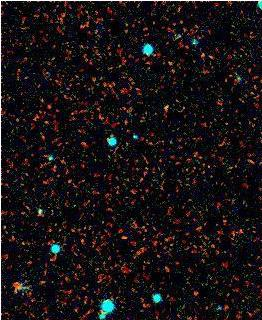star: (151, 92, 181, 122)
